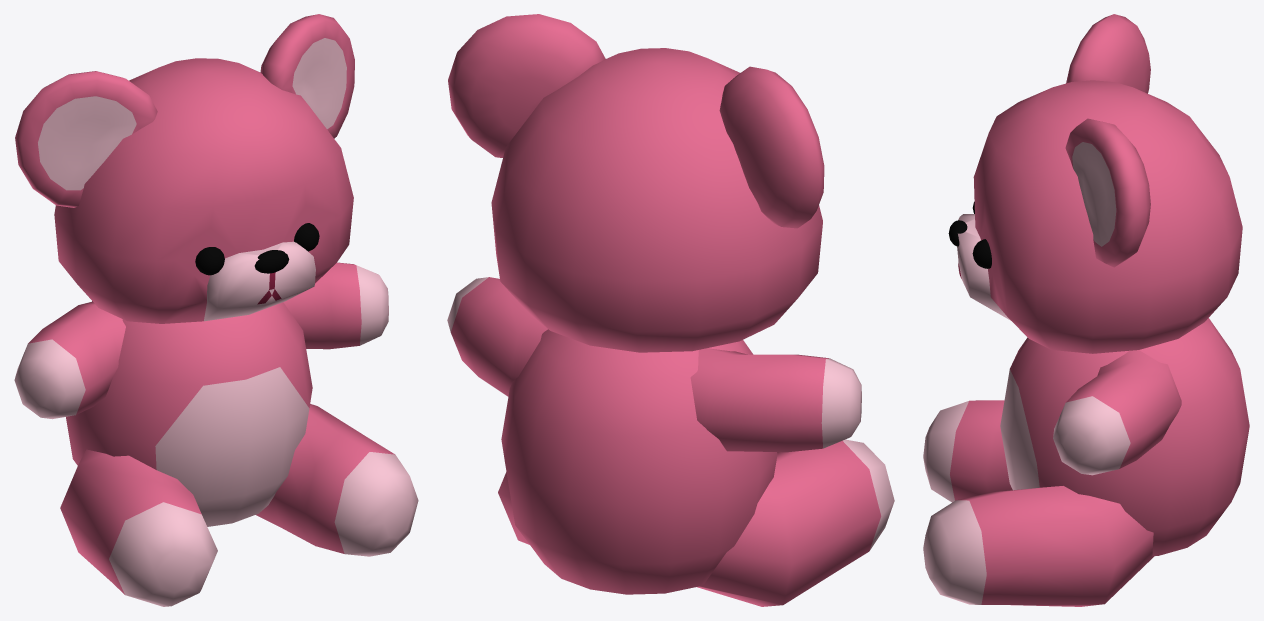
Rendered from teddy bear.fbx.
3 views of the same model, side by side, from view 1: azimuth 30°, elevation 25°; view 2: azimuth 150°, elevation 25°; view 3: azimuth 270°, elevation 25° (orthographic). The views are drawn at different scales.
Parts seen in each view (by area): view 1: Sphere; view 2: Sphere; view 3: Sphere.
Boxes of the visible parts, x1,y1,x2,y2 form: Sphere: (14, 14, 418, 606); Sphere: (447, 14, 894, 606); Sphere: (923, 14, 1249, 606).
Size of the model in its own units: 281 by 366 by 220.
Materials: 1 (1 with a texture image).
